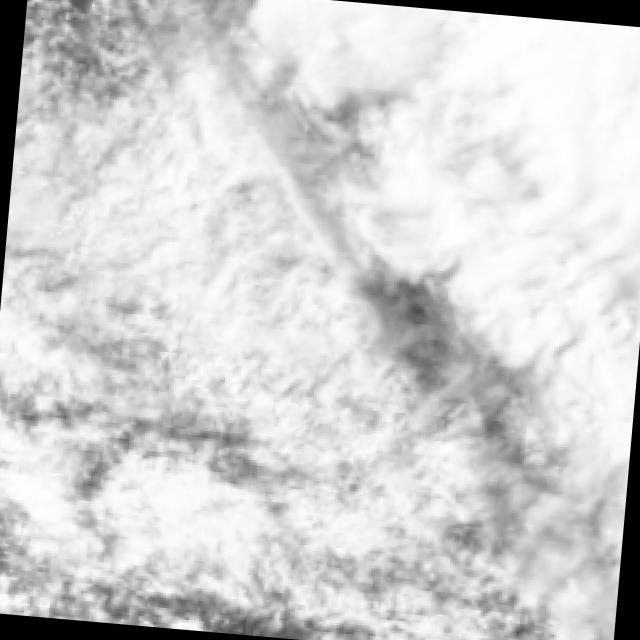CB: (451, 11, 640, 156)
